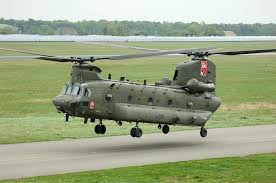chinook: (42, 38, 226, 141)
